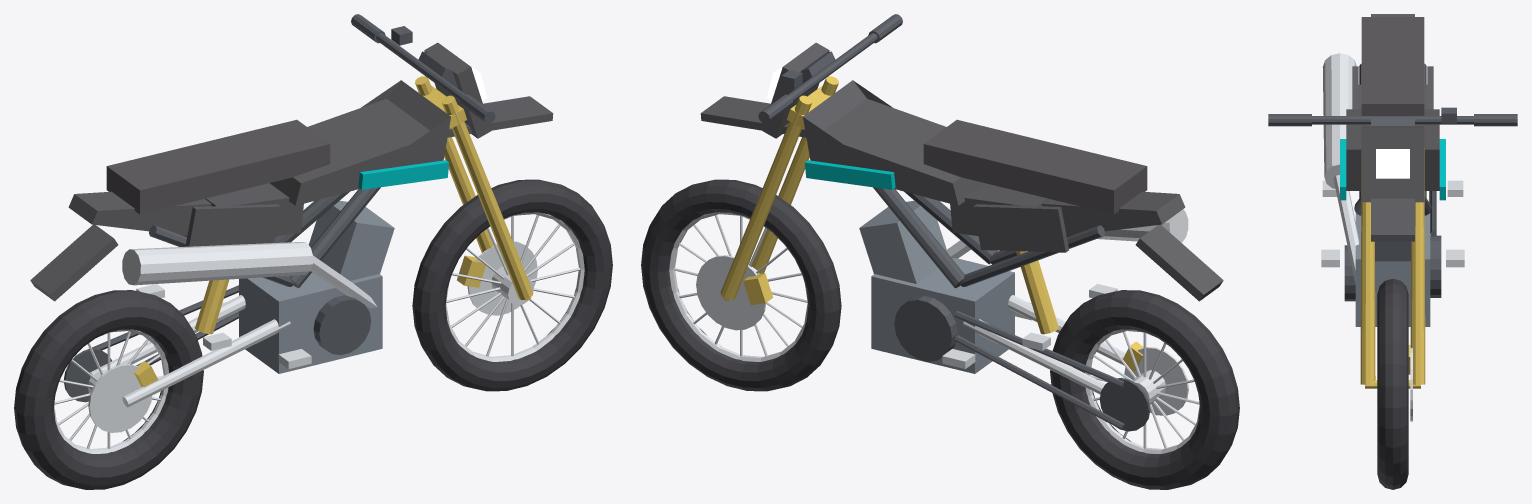
The model's file is yamaha-wr-155r-2020-2026.glb.
3 renders of one model, left to right at view 1: azimuth 30°, elevation 25°; view 2: azimuth 150°, elevation 25°; view 3: azimuth 270°, elevation 25°, orthographic. The views are drawn at different scales.
Visible parts, largest first — view 1: Roda_Ban, Bodi_Utama, Jok_Motor, Mesin_Blok, Knalpot, Velg_Roda, Bodi_Depan, Suspensi_Depan, Piringan_Rem, Spakbor, Swing_Arm, Rangka (+7 smaller); view 2: Roda_Ban, Bodi_Utama, Jok_Motor, Mesin_Blok, Velg_Roda, Bodi_Depan, Suspensi_Depan, Rangka, Piringan_Rem, Spakbor, Rantai, Cover_Mesin (+7 smaller); view 3: Roda_Ban, Jok_Motor, Suspensi_Depan, Bodi_Depan, Knalpot, Mesin_Blok, Master_Rem_Stang, Bodi_Utama, Spakbor, Cover_Mesin, Footstep, Lampu_Depan (+3 smaller).
Part boxes in pixels (x1,y1,x2,y2): Roda_Ban: (14, 179, 612, 489); Bodi_Utama: (68, 80, 450, 236); Jok_Motor: (106, 119, 330, 214); Mesin_Blok: (239, 200, 394, 373); Knalpot: (122, 242, 377, 308); Velg_Roda: (54, 212, 584, 453); Bodi_Depan: (185, 42, 491, 246); Suspensi_Depan: (415, 76, 533, 300); Piringan_Rem: (88, 241, 537, 432); Spakbor: (30, 96, 553, 301); Swing_Arm: (90, 295, 290, 407); Rangka: (149, 187, 380, 288); Roda_Ban: (641, 179, 1239, 489); Bodi_Utama: (803, 80, 1185, 236); Jok_Motor: (923, 119, 1147, 214); Mesin_Blok: (859, 200, 1014, 373); Velg_Roda: (669, 212, 1199, 453); Bodi_Depan: (762, 42, 1068, 252); Suspensi_Depan: (720, 76, 838, 300); Rangka: (873, 187, 1104, 288); Piringan_Rem: (696, 255, 1188, 415); Spakbor: (700, 96, 1223, 301); Rantai: (954, 311, 1150, 431); Cover_Mesin: (894, 295, 957, 361); Roda_Ban: (1377, 279, 1408, 489); Jok_Motor: (1361, 17, 1424, 115); Suspensi_Depan: (1360, 148, 1425, 388); Bodi_Depan: (1352, 66, 1433, 202); Knalpot: (1322, 53, 1359, 283); Mesin_Blok: (1355, 213, 1430, 326); Master_Rem_Stang: (1268, 107, 1517, 126); Bodi_Utama: (1346, 14, 1439, 190); Spakbor: (1371, 198, 1414, 241); Cover_Mesin: (1344, 235, 1441, 301); Footstep: (1321, 180, 1464, 267); Lampu_Depan: (1376, 149, 1409, 178).
Bounding box in the file's own units: 2.06 × 1.18 × 0.8.
